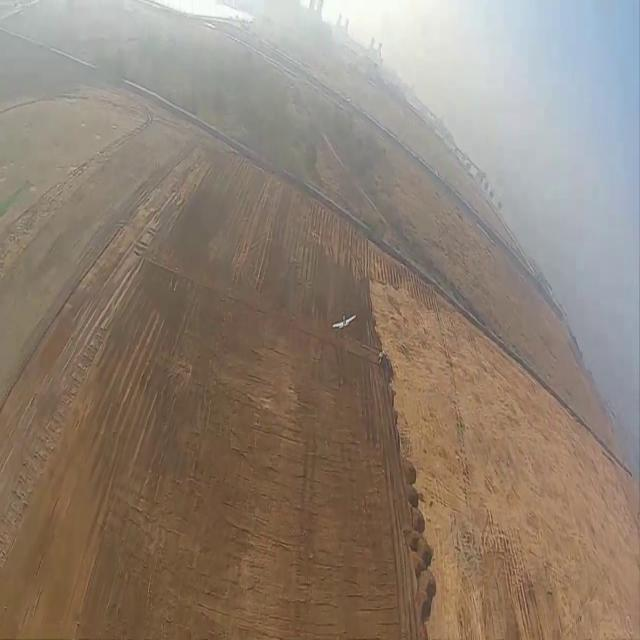iha: (325, 304, 366, 332)
